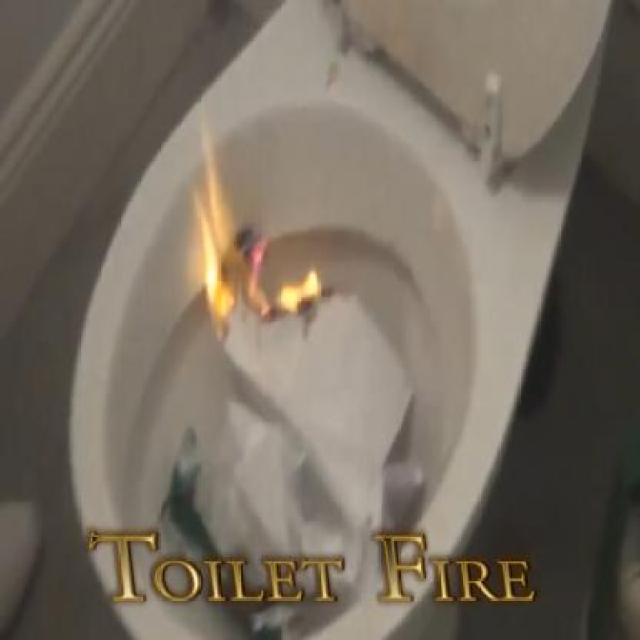Fire: (173, 123, 337, 344)
